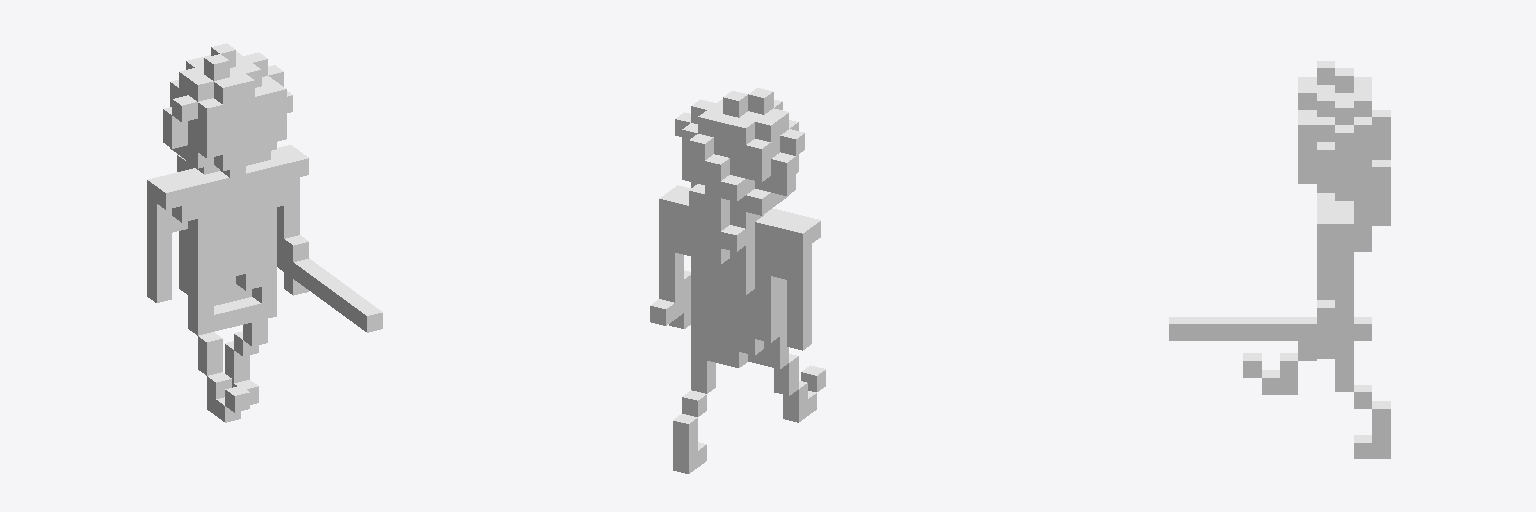
The model's file is SpinningGirlCharacter-2.obj.
3 renders of one model, left to right at view 1: azimuth 30°, elevation 25°; view 2: azimuth 150°, elevation 25°; view 3: azimuth 270°, elevation 25°, orthographic.
Visible parts, largest first — view 1: SpinningGirlCharacter-2; view 2: SpinningGirlCharacter-2; view 3: SpinningGirlCharacter-2.
Boxes of the visible parts, box(x1,y1,x2,y2) form: SpinningGirlCharacter-2: box(147, 43, 382, 422); SpinningGirlCharacter-2: box(650, 88, 825, 473); SpinningGirlCharacter-2: box(1169, 61, 1390, 458).
Bounding box in the file's own units: 9 × 22 × 12.